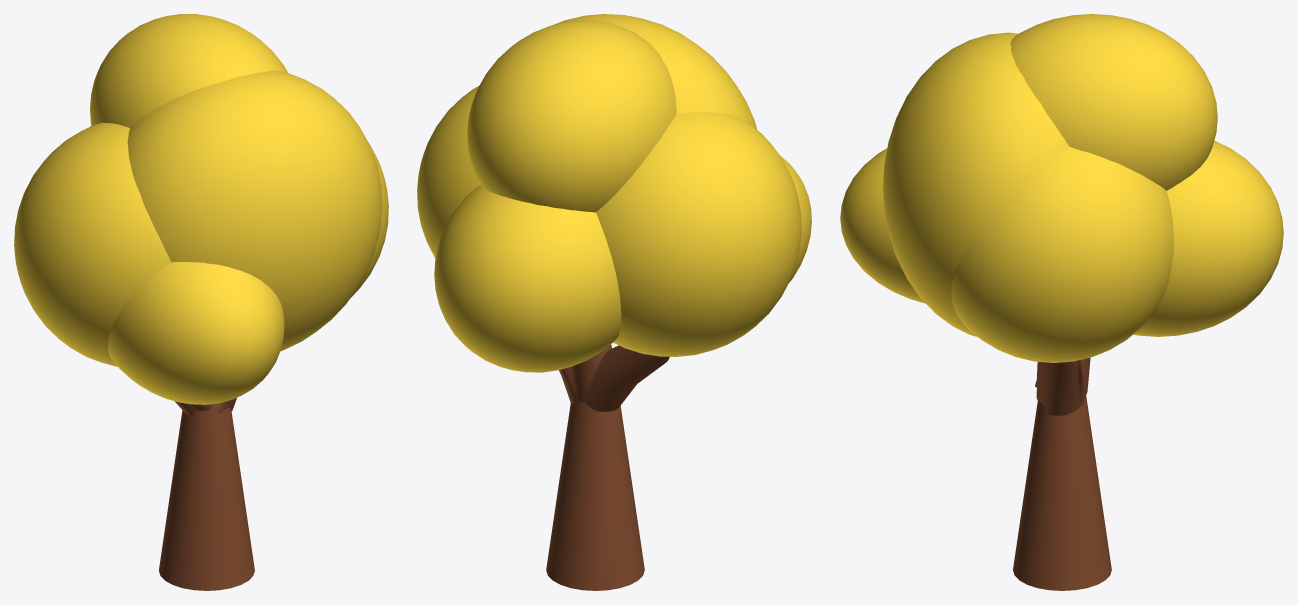
The model's file is JoyLv3.glb.
3 views of the same model, side by side, from view 1: azimuth 30°, elevation 25°; view 2: azimuth 150°, elevation 25°; view 3: azimuth 270°, elevation 25° (orthographic). The views are drawn at different scales.
Visible parts, largest first — view 1: GeoSphere004, GeoSphere003, GeoSphere005, Batang, GeoSphere007, GeoSphere002; view 2: GeoSphere003, GeoSphere007, GeoSphere006, Batang, GeoSphere004, GeoSphere002, Kiri, GeoSphere005, Atas; view 3: GeoSphere002, GeoSphere004, GeoSphere007, GeoSphere006, Batang, GeoSphere005, Kanan.
Boxes of the visible parts, <box> form: GeoSphere004: <box>127,70,382,351</box>; GeoSphere003: <box>14,122,170,366</box>; GeoSphere005: <box>108,262,284,404</box>; Batang: <box>159,407,254,590</box>; GeoSphere007: <box>90,14,287,127</box>; GeoSphere002: <box>351,142,388,297</box>; GeoSphere003: <box>596,112,801,356</box>; GeoSphere007: <box>467,20,676,212</box>; GeoSphere006: <box>434,185,621,372</box>; Batang: <box>546,402,644,590</box>; GeoSphere004: <box>552,14,756,129</box>; GeoSphere002: <box>417,86,480,258</box>; Kiri: <box>581,345,669,411</box>; GeoSphere005: <box>780,155,811,283</box>; Atas: <box>571,344,611,402</box>; GeoSphere002: <box>951,147,1173,362</box>; GeoSphere004: <box>883,32,1069,336</box>; GeoSphere007: <box>1010,14,1217,190</box>; GeoSphere006: <box>1133,140,1283,336</box>; Batang: <box>1013,395,1111,590</box>; GeoSphere005: <box>840,148,925,303</box>; Kanan: <box>1036,360,1085,415</box>.
Bounding box in the file's own units: 1.3 × 1.94 × 1.42.
